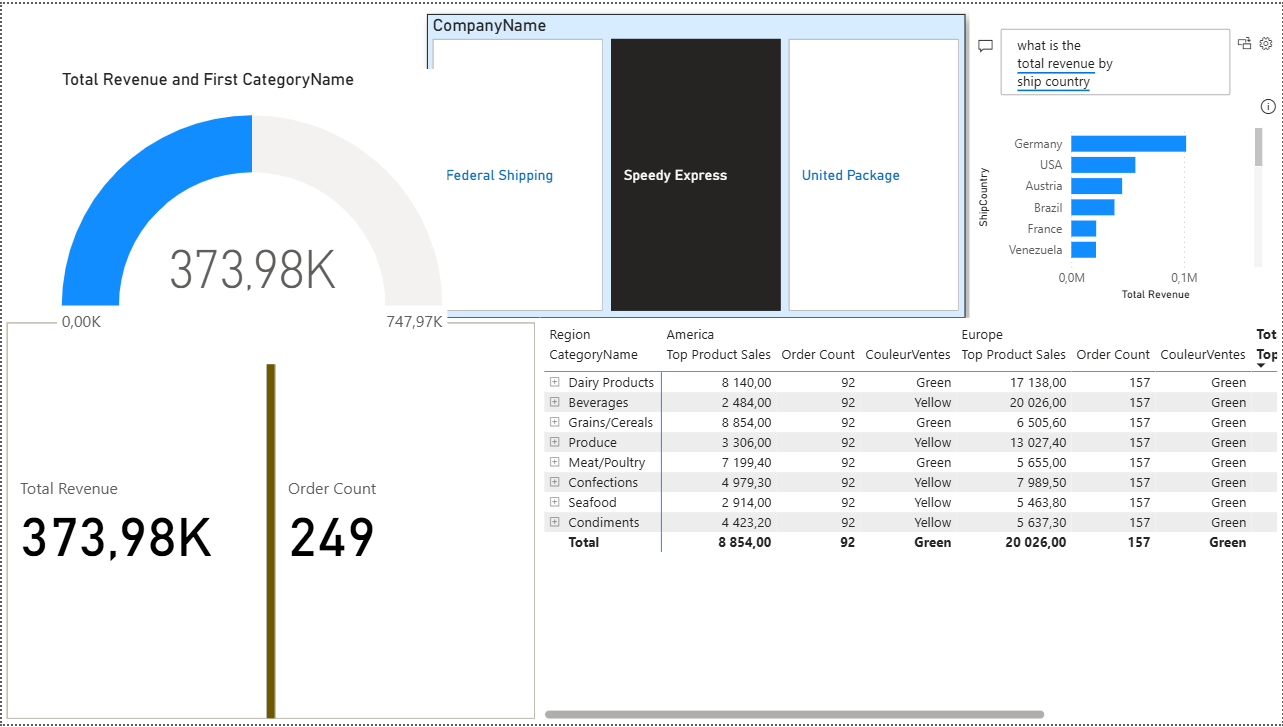

The dashboard page shown, as its layout file describes it:
{"tool":"powerbi","page":{"name":"Page 3","canvas":[1280,720],"ordinal":2},"visuals":[{"type":"advancedSlicerVisual","fields":{"Values":["Shippers.CompanyName"]},"box":[425.6,10.4,538.3,304],"z":0},{"type":"cardVisual","fields":{"Data":["Order Details.Total Revenue","Customers.Order Count"]},"box":[0,313.6,538.8,406.2],"z":1000},{"type":"qnaVisual","box":[967.8,0,312.2,315],"z":2000},{"type":"gauge","fields":{"Y":["Order Details.Total Revenue"]},"box":[55.6,65.6,390.6,295.1],"z":3000},{"type":"pivotTable","fields":{"Rows":["Categories.CategoryName","Customers.Country"],"Values":["Categories.Top Product Sales","Customers.Order Count","select"],"Columns":["Customers.Region"]},"box":[537.4,313.6,742.6,406.2],"z":4000}]}

Visuals, with their boxes in screenshot pixels (x1, y1, x2, y2), scaled from the page's 1280x720 canvas onto the 1283x727 screenshot:
advancedSlicerVisual - Shippers.CompanyName: <box>427,11,966,317</box>
cardVisual - Order Details.Total Revenue x Customers.Order Count: <box>0,317,540,726</box>
qnaVisual: <box>970,0,1282,318</box>
gauge - Order Details.Total Revenue: <box>56,66,447,364</box>
pivotTable - Categories.CategoryName x Customers.Country: <box>539,317,1282,726</box>
